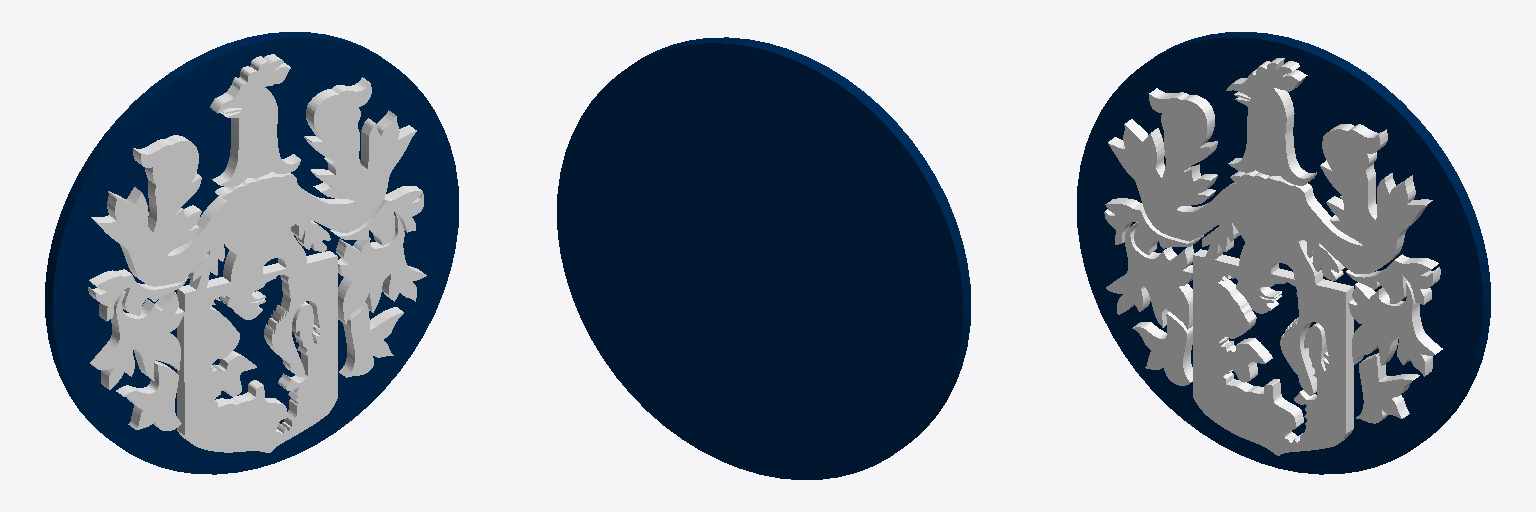
Rendered from ruddock_crest.obj.
3 views of the same model, side by side, from view 1: azimuth 30°, elevation 25°; view 2: azimuth 150°, elevation 25°; view 3: azimuth 330°, elevation 25° (orthographic).
Visible parts, largest first — view 1: obj_0; view 2: obj_0; view 3: obj_0.
Boxes of the visible parts, x1=… form: obj_0: x1=45, y1=32, x2=458, y2=474; obj_0: x1=557, y1=37, x2=970, y2=479; obj_0: x1=1077, y1=32, x2=1490, y2=474.
Bounding box in the file's own units: 150 × 150 × 10.